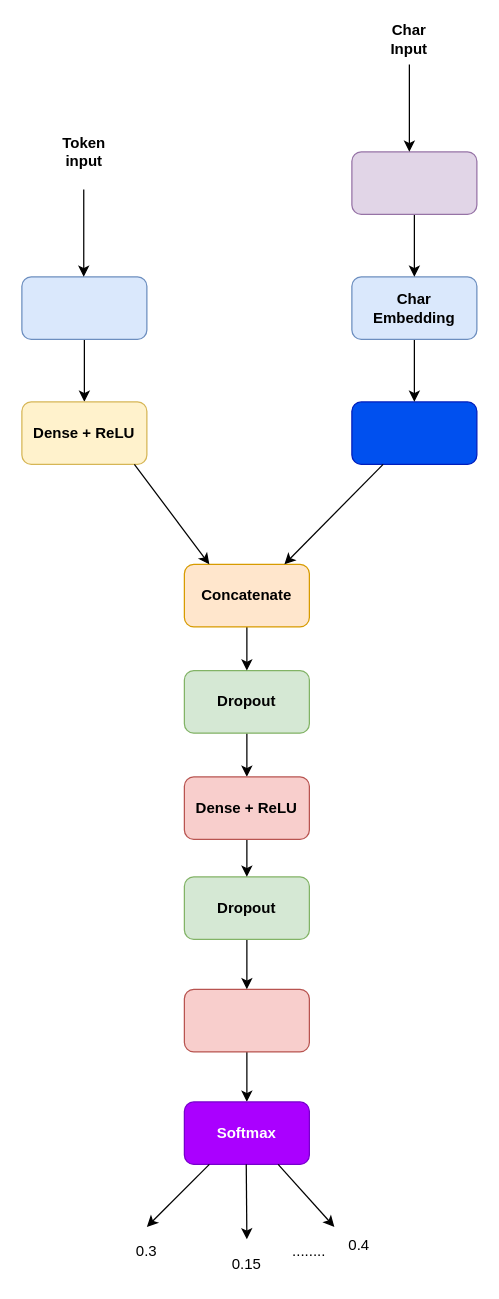
Some shapes in this 499 by 1299 pixel diagram are drawn without their labels. Here are the shapes that lost their labels. From the top down, the box of each, then its label:
(351, 151, 477, 214): Char Vectorizer
(21, 276, 147, 339): Token Embedding
(351, 401, 477, 464): Bi-LSTM
(183, 988, 309, 1052): Dense (num_classes)
